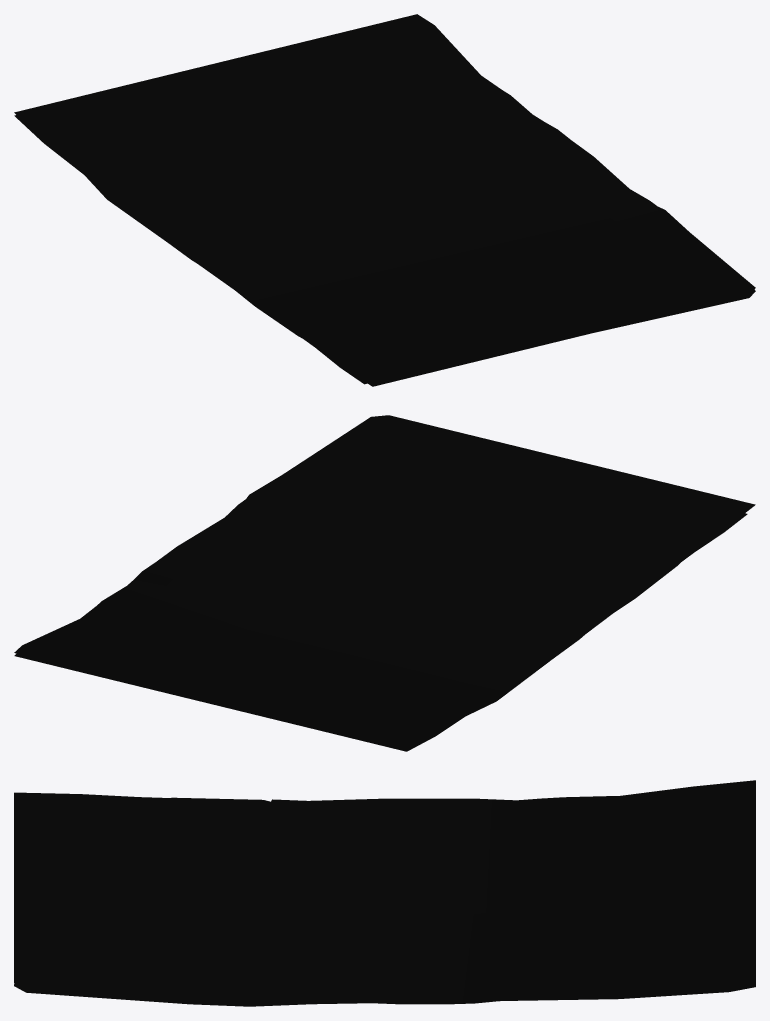
File: 104_mapraccooncity01a.fbx
3 views of the same model, one above another, from view 1: azimuth 30°, elevation 25°; view 2: azimuth 150°, elevation 25°; view 3: azimuth 270°, elevation 25° (orthographic). The views are drawn at different scales.
Visible parts, largest first — view 1: LOD_1_Group_0_Sub_1__sm74_104_MapRaccoonCity01A_A_Mat; view 2: LOD_1_Group_0_Sub_1__sm74_104_MapRaccoonCity01A_A_Mat; view 3: LOD_1_Group_0_Sub_1__sm74_104_MapRaccoonCity01A_A_Mat.
Boxes of the visible parts, x1=… form: LOD_1_Group_0_Sub_1__sm74_104_MapRaccoonCity01A_A_Mat: x1=14, y1=14, x2=755, y2=386; LOD_1_Group_0_Sub_1__sm74_104_MapRaccoonCity01A_A_Mat: x1=14, y1=415, x2=755, y2=751; LOD_1_Group_0_Sub_1__sm74_104_MapRaccoonCity01A_A_Mat: x1=14, y1=780, x2=755, y2=1006.
Bounding box in the file's own units: 0.2036 × 0.00991 × 0.31.
